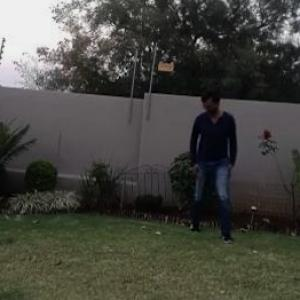follow: (192, 81, 245, 246)
